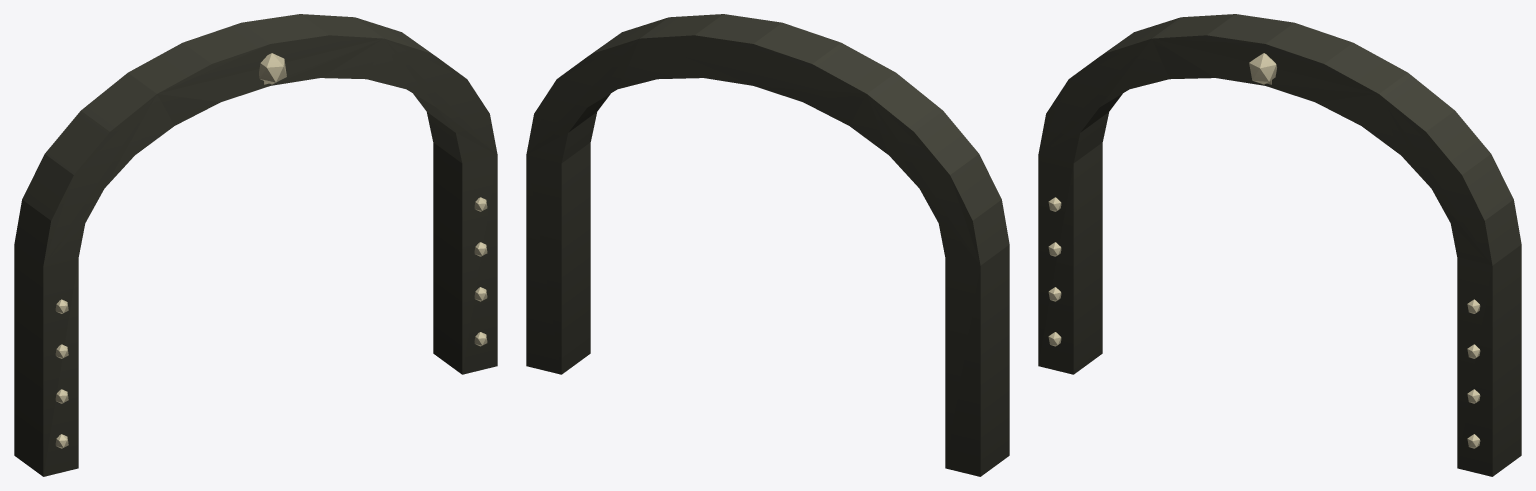
Rendered from crypt_arch.glb.
3 views of the same model, side by side, from view 1: azimuth 30°, elevation 25°; view 2: azimuth 150°, elevation 25°; view 3: azimuth 330°, elevation 25° (orthographic).
Parts seen in each view (by area): view 1: crypt_arch_mesh; view 2: crypt_arch_mesh; view 3: crypt_arch_mesh.
Part boxes in pixels (x1,y1,x2,y2): crypt_arch_mesh: (14, 14, 497, 476); crypt_arch_mesh: (526, 14, 1009, 476); crypt_arch_mesh: (1038, 14, 1521, 476).
Size of the model in its own units: 9 by 7.15 by 1.32.
